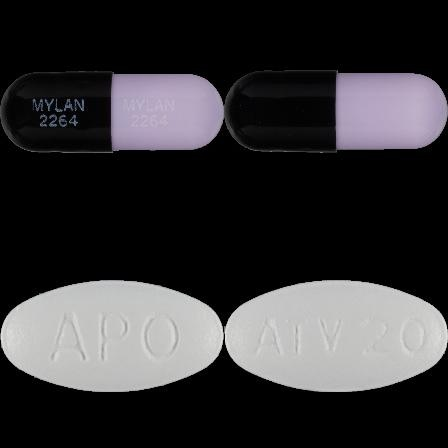43063-495: (0, 0, 224, 224)
